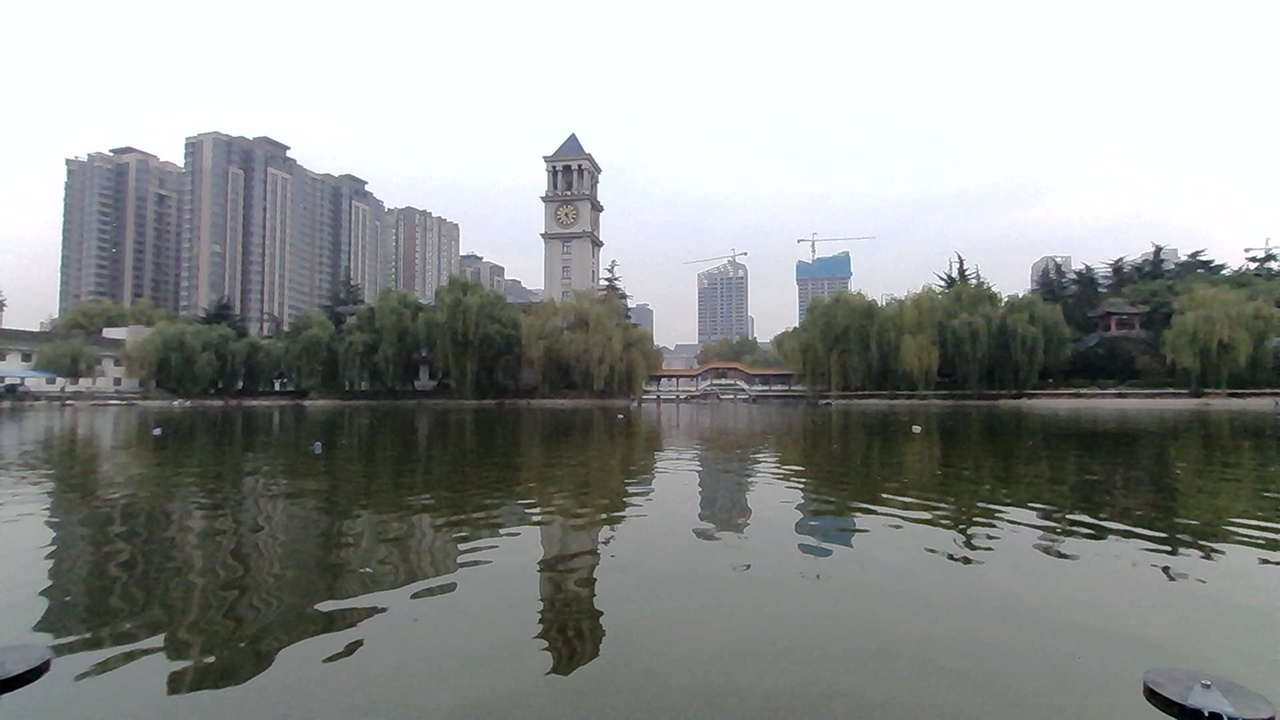bottle: (904, 416, 942, 437), (305, 436, 339, 458), (150, 415, 171, 443)
